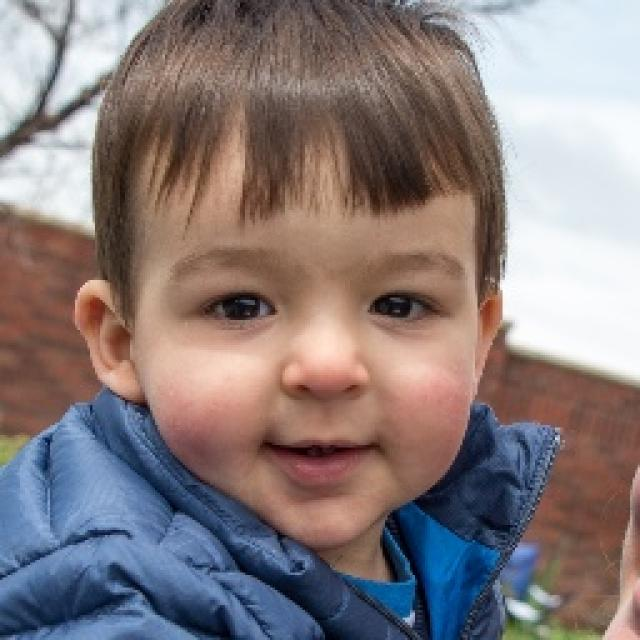earlobe: (72, 279, 148, 405), (472, 280, 507, 397)
